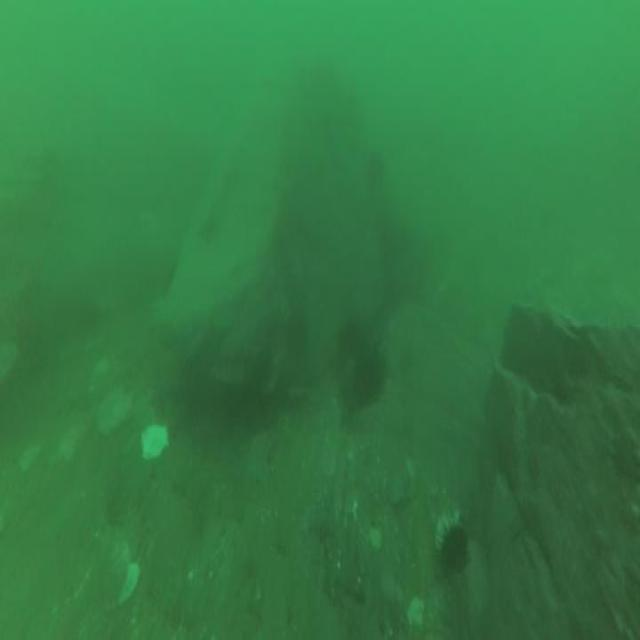echinus: (436, 515, 472, 583), (351, 348, 386, 414), (337, 308, 364, 365)
scallop: (102, 536, 142, 618), (95, 376, 133, 443), (140, 418, 170, 470)
